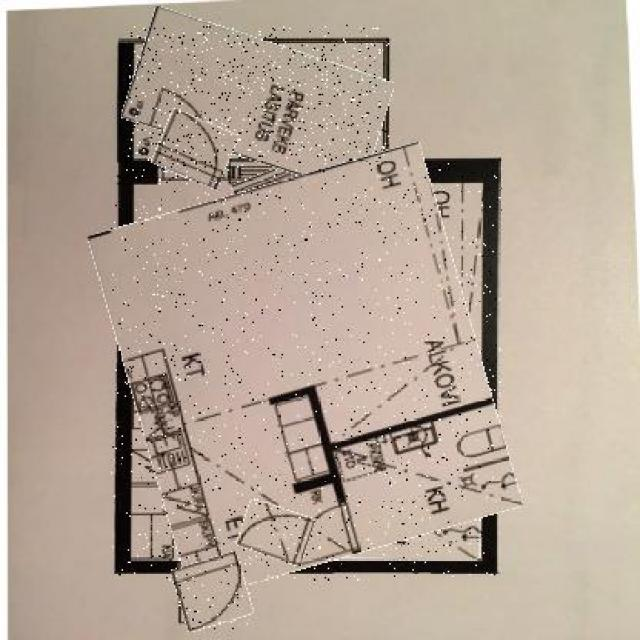door: (174, 556, 251, 630), (156, 114, 236, 184), (238, 503, 312, 562)
window: (230, 148, 364, 195)
zone: (110, 162, 502, 580), (126, 25, 389, 177), (315, 456, 480, 558)
